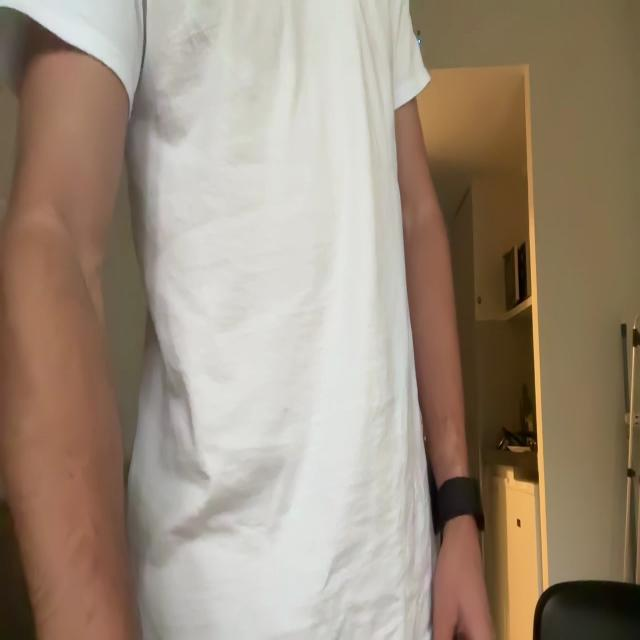elbow: (0, 199, 112, 347), (399, 179, 446, 268)
hand: (431, 521, 495, 640)
